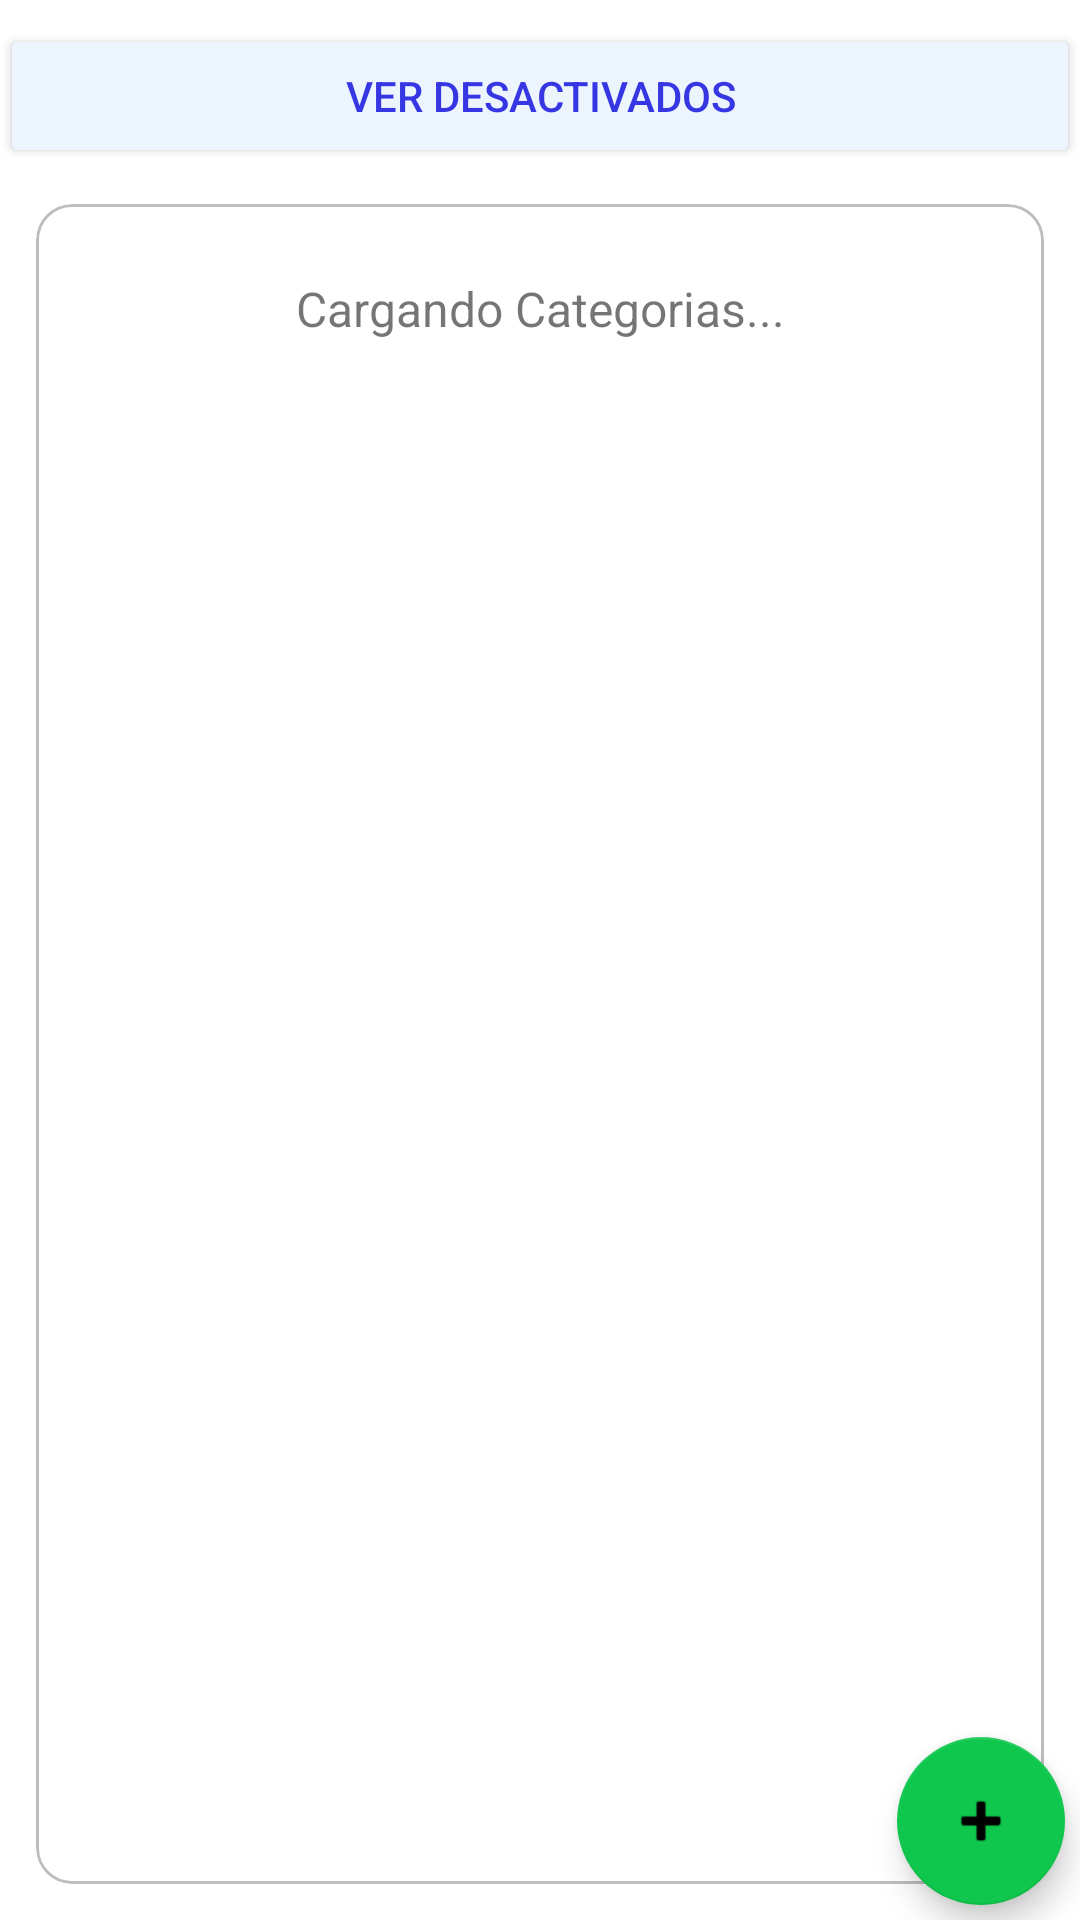

Named icons in this screenshot (1080w x 1920h) and their bounding boxes, (x1, y1, x2, y2):
Agregar categoria: (897, 1737, 1065, 1905)
